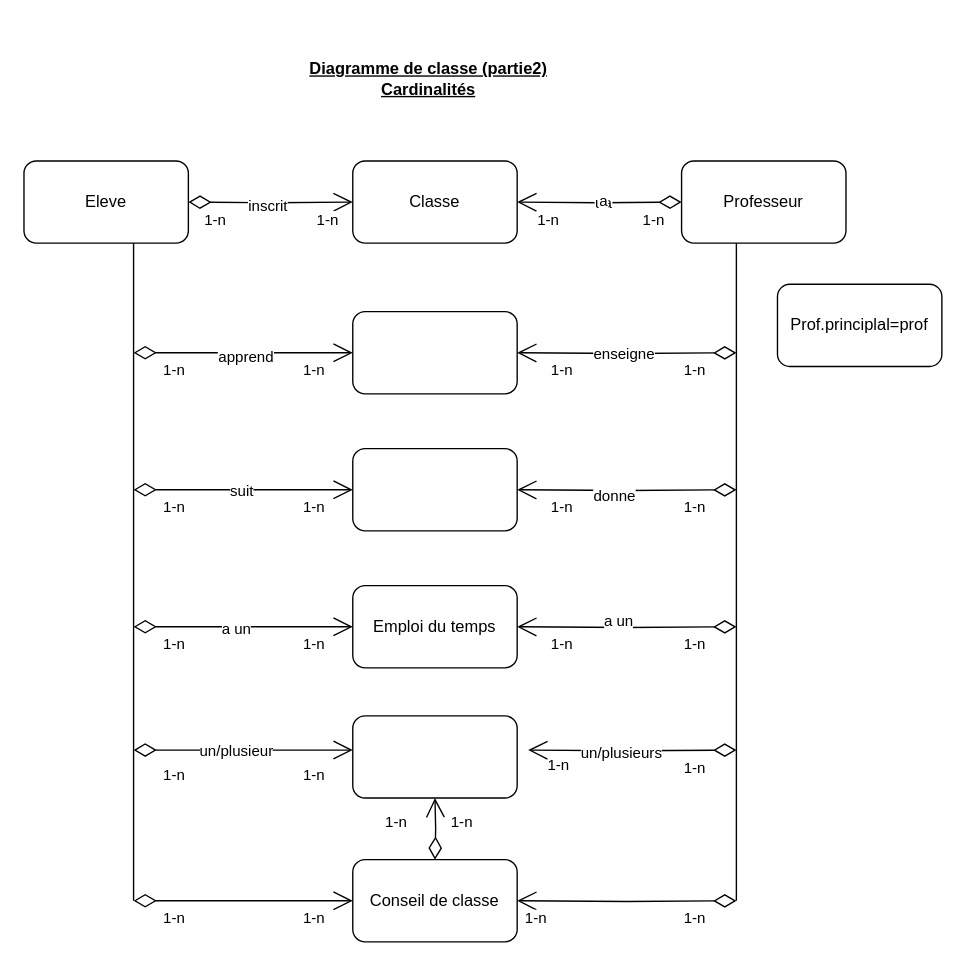
The diagram is 966 pixels wide and 966 high, and some of its shapes have lost their labels. The shapes that lost their labels are listed below. From the top down, each one's centre as x and y in pixels, then its label:
At (x=434, y=352): "Matière".
At (x=434, y=489): "Cours".
At (x=434, y=756): "Bulletins".
